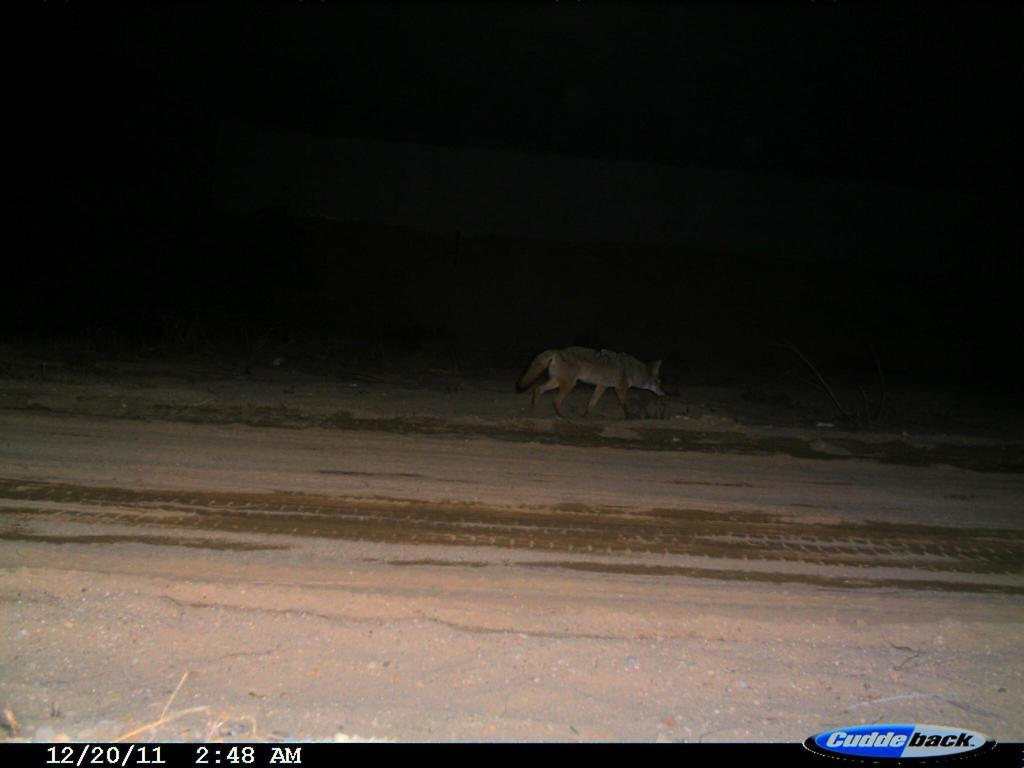coyote: (514, 341, 678, 427)
